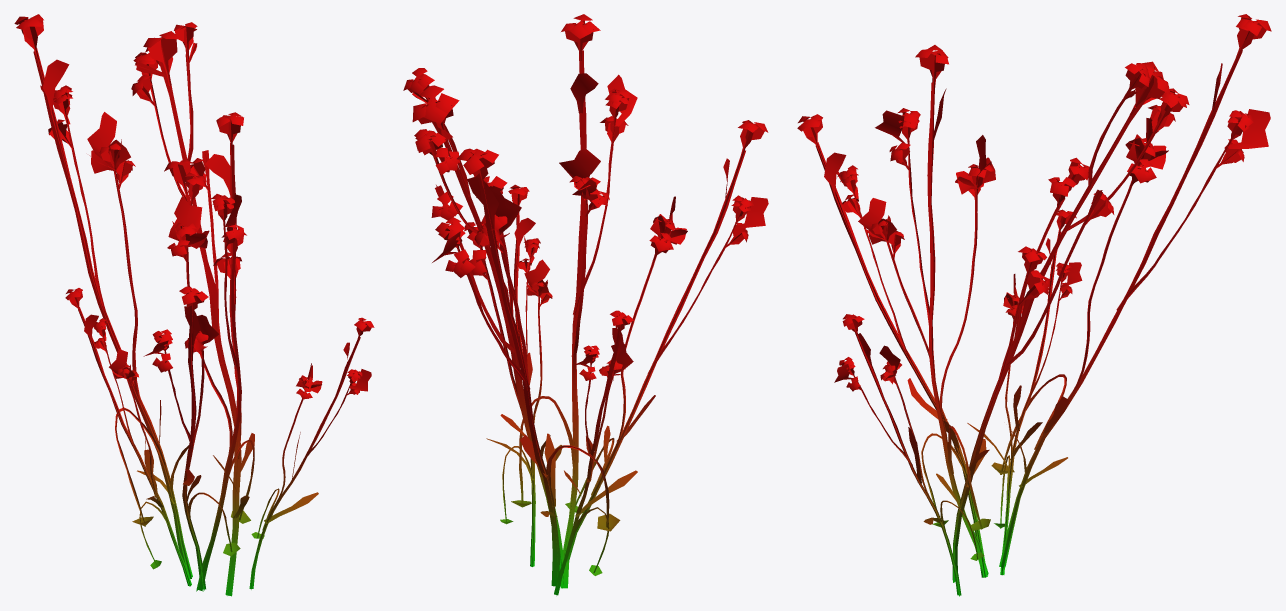
The model's file is Var3_LOD0.fbx.
3 views of the same model, side by side, from view 1: azimuth 30°, elevation 25°; view 2: azimuth 150°, elevation 25°; view 3: azimuth 270°, elevation 25° (orthographic). The views are drawn at different scales.
Visible parts, largest first — view 1: _12df_Var3_LOD0; view 2: _12df_Var3_LOD0; view 3: _12df_Var3_LOD0.
Part boxes in pixels (box(x1,y1,x2,y2)): _12df_Var3_LOD0: box(14, 14, 374, 596); _12df_Var3_LOD0: box(403, 14, 768, 595); _12df_Var3_LOD0: box(797, 14, 1271, 596).
Size of the model in its own units: 22.13 by 46.52 by 36.8.
